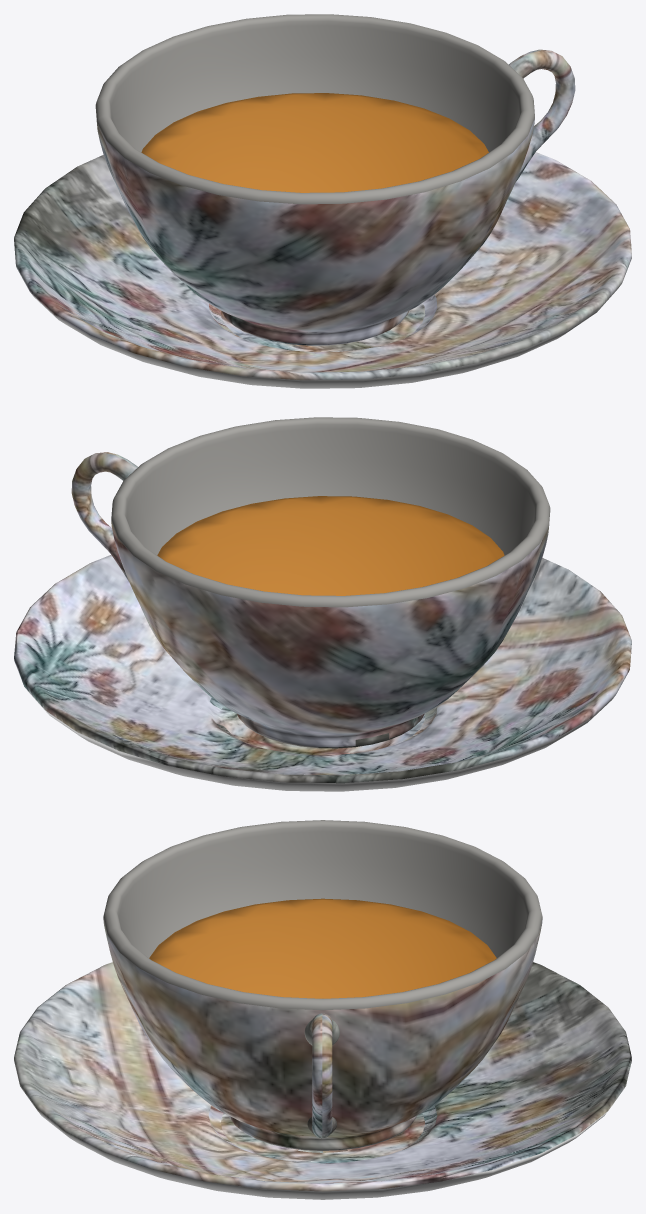
The model's file is teacup.fbx.
3 views of the same model, one above another, from view 1: azimuth 30°, elevation 25°; view 2: azimuth 150°, elevation 25°; view 3: azimuth 270°, elevation 25° (orthographic).
Parts seen in each view (by area): view 1: Teacup, Dish, Tea_Liquid, teacup_handle; view 2: Teacup, Dish, Tea_Liquid, teacup_handle; view 3: Teacup, Dish, Tea_Liquid, teacup_handle.
Boxes of the visible parts, bbox=[...] form: Teacup: bbox=[95, 14, 534, 345]; Dish: bbox=[14, 152, 631, 388]; Tea_Liquid: bbox=[141, 93, 488, 192]; teacup_handle: bbox=[508, 49, 575, 182]; Teacup: bbox=[111, 417, 550, 748]; Dish: bbox=[14, 555, 631, 791]; Tea_Liquid: bbox=[157, 496, 504, 595]; teacup_handle: bbox=[71, 452, 137, 581]; Teacup: bbox=[103, 820, 542, 1150]; Dish: bbox=[14, 962, 631, 1199]; Tea_Liquid: bbox=[149, 898, 496, 998]; teacup_handle: bbox=[304, 1013, 339, 1138].
Bounding box in the file's own units: 15.18 × 6.11 × 15.18.
